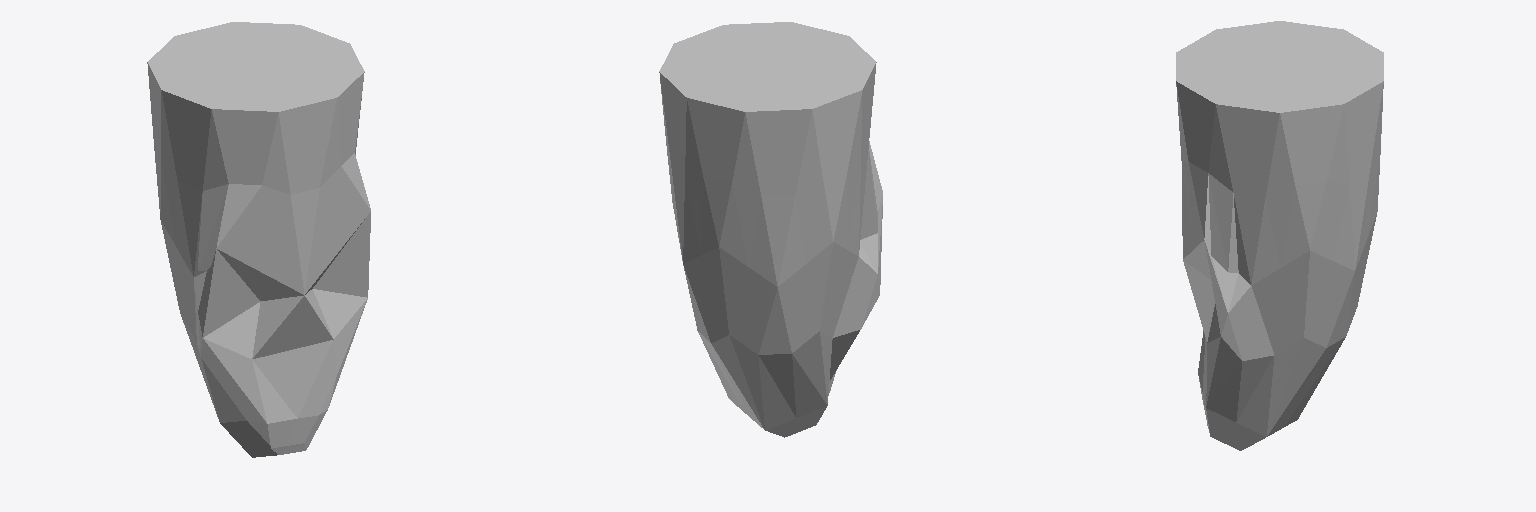
The model's file is tiki_inverted_angry.obj.
3 views of the same model, side by side, from view 1: azimuth 30°, elevation 25°; view 2: azimuth 150°, elevation 25°; view 3: azimuth 270°, elevation 25° (orthographic).
Parts seen in each view (by area): view 1: Icosphere; view 2: Icosphere; view 3: Icosphere.
Part boxes in pixels (x1,y1,x2,y2): Icosphere: (147,22,370,457); Icosphere: (659,22,882,437); Icosphere: (1176,21,1383,450).
Bounding box in the file's own units: 1.29 × 2.47 × 1.23.